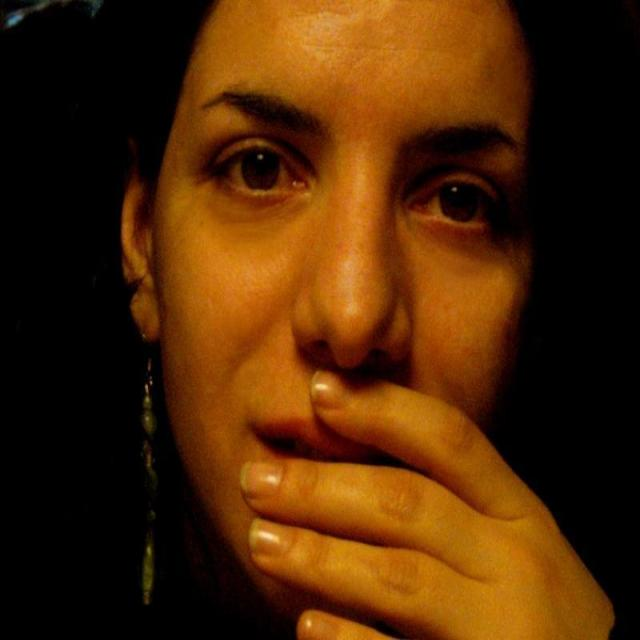Eyebags: (407, 214, 502, 277), (214, 183, 308, 242)
